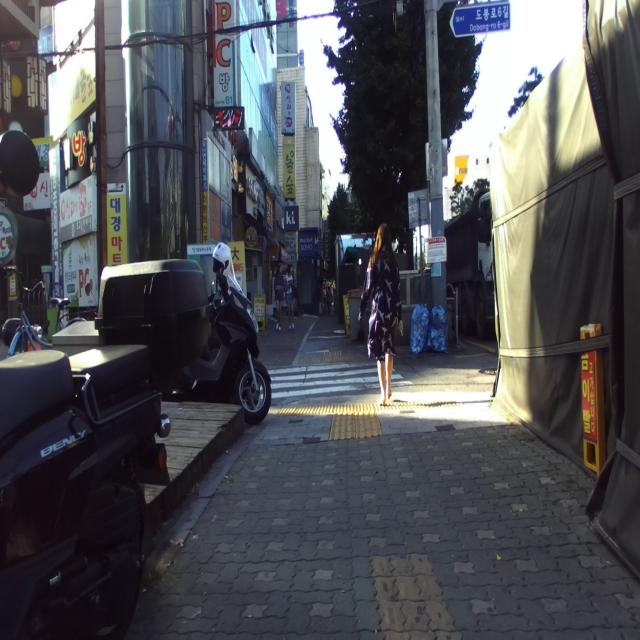횡단보도: (260, 362, 414, 399)
